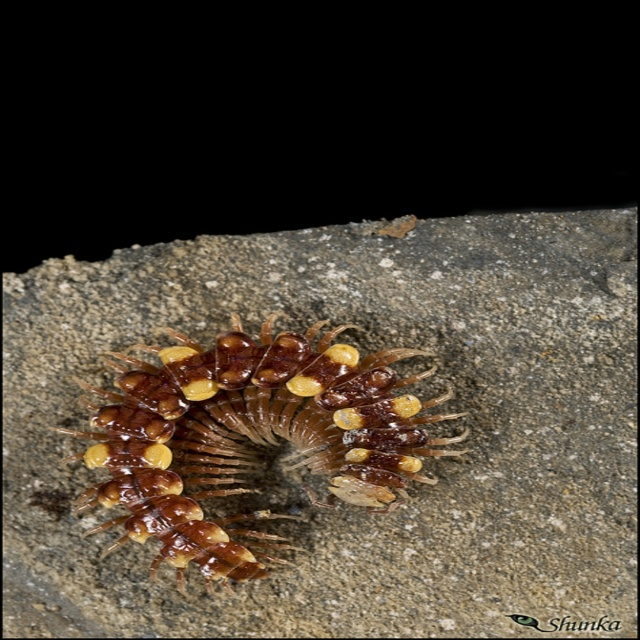Centipede: (53, 316, 472, 604)
